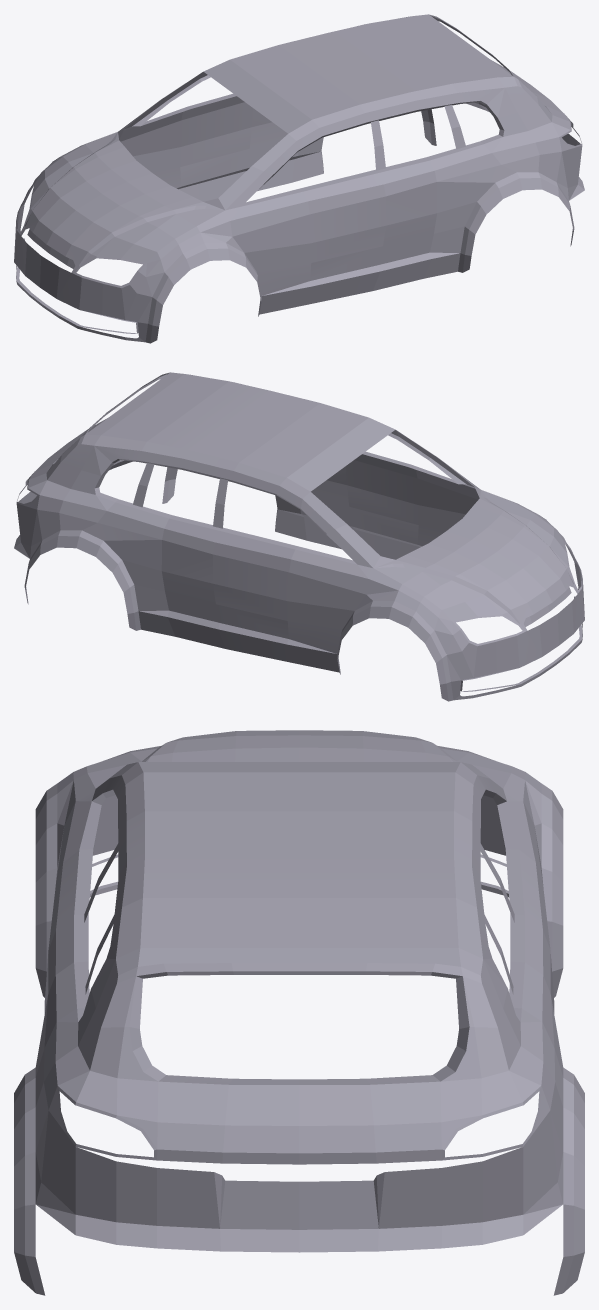
File: Car_01 DefaultBody.fbx
The picture shows the model from 3 angles, top to bottom: view 1: azimuth 30°, elevation 25°; view 2: azimuth 150°, elevation 25°; view 3: azimuth 270°, elevation 25°; orthographic projection. The views are drawn at different scales.
Parts seen in each view (by area): view 1: Car_7C__1_; view 2: Car_7C__1_; view 3: Car_7C__1_.
Boxes of the visible parts, x1=… form: Car_7C__1_: x1=14, y1=14, x2=584, y2=343; Car_7C__1_: x1=14, y1=372, x2=584, y2=701; Car_7C__1_: x1=14, y1=730, x2=584, y2=1295.
Bounding box in the file's own units: 450 × 142 × 234.
